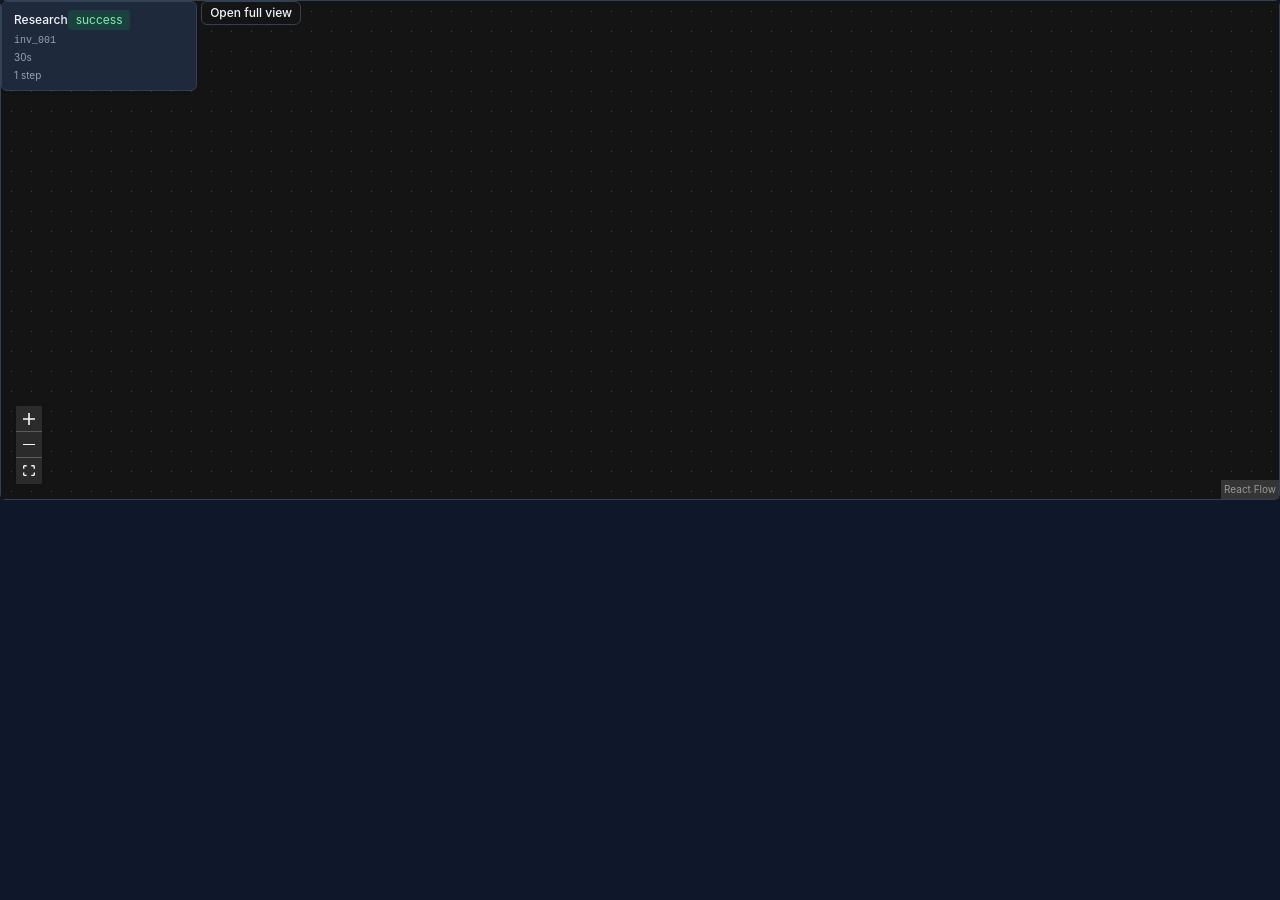
InvocationGraph step detail › returns focus to the icon that opened the pop-up once it closes
Step 1. Click the button "Research success inv_001 30s 1 step" → (99, 46), box [1,1,197,91]
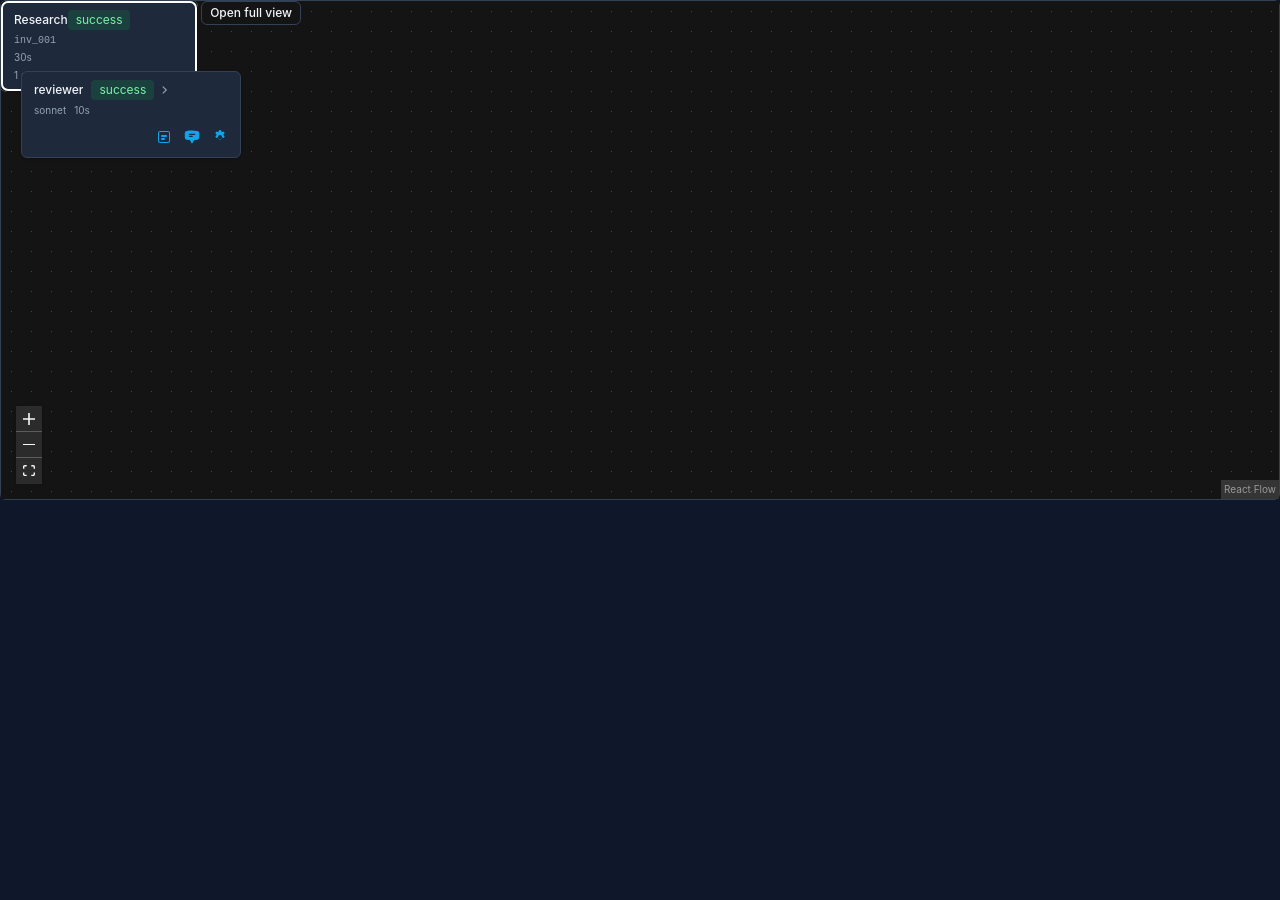
Result: the element with test id "workflow-node-inv_001-step_2" is shown at [21,71,241,158]
Step 2. Click the button named "View output of reviewer (step_2)" → (164, 137), box [152,125,176,149]
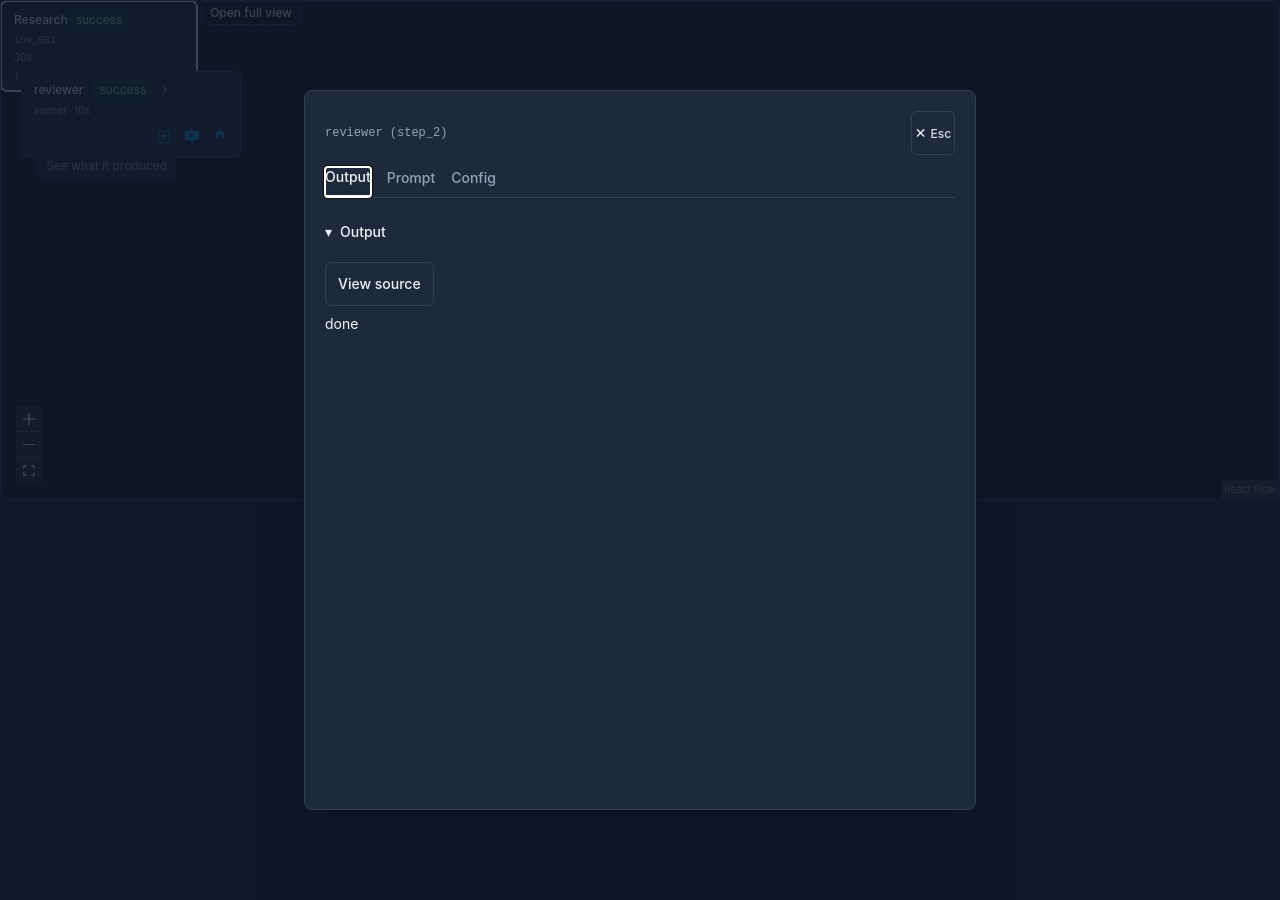
Step 3. Press Escape
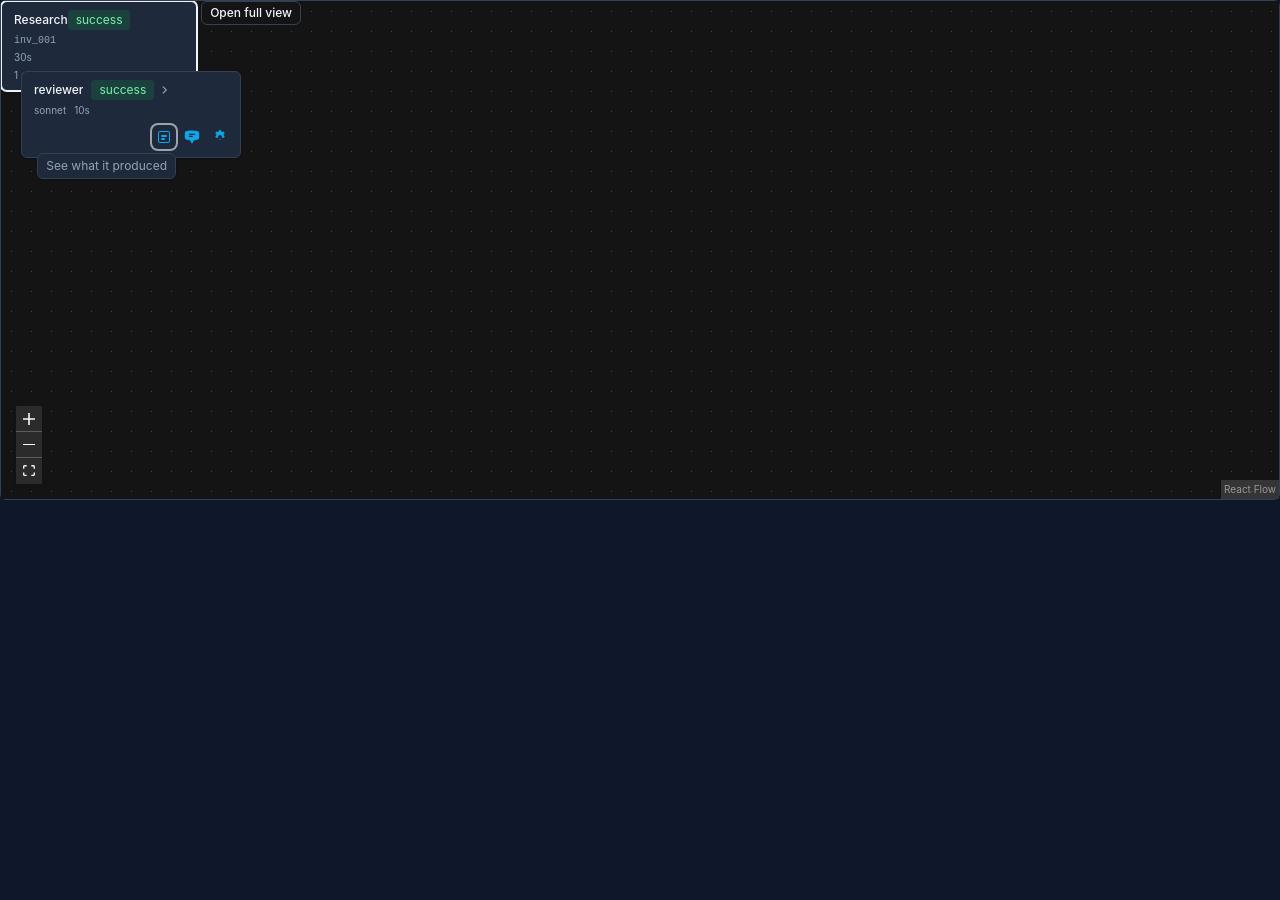
Result: the dialog with test id "node-detail-dialog" is gone
